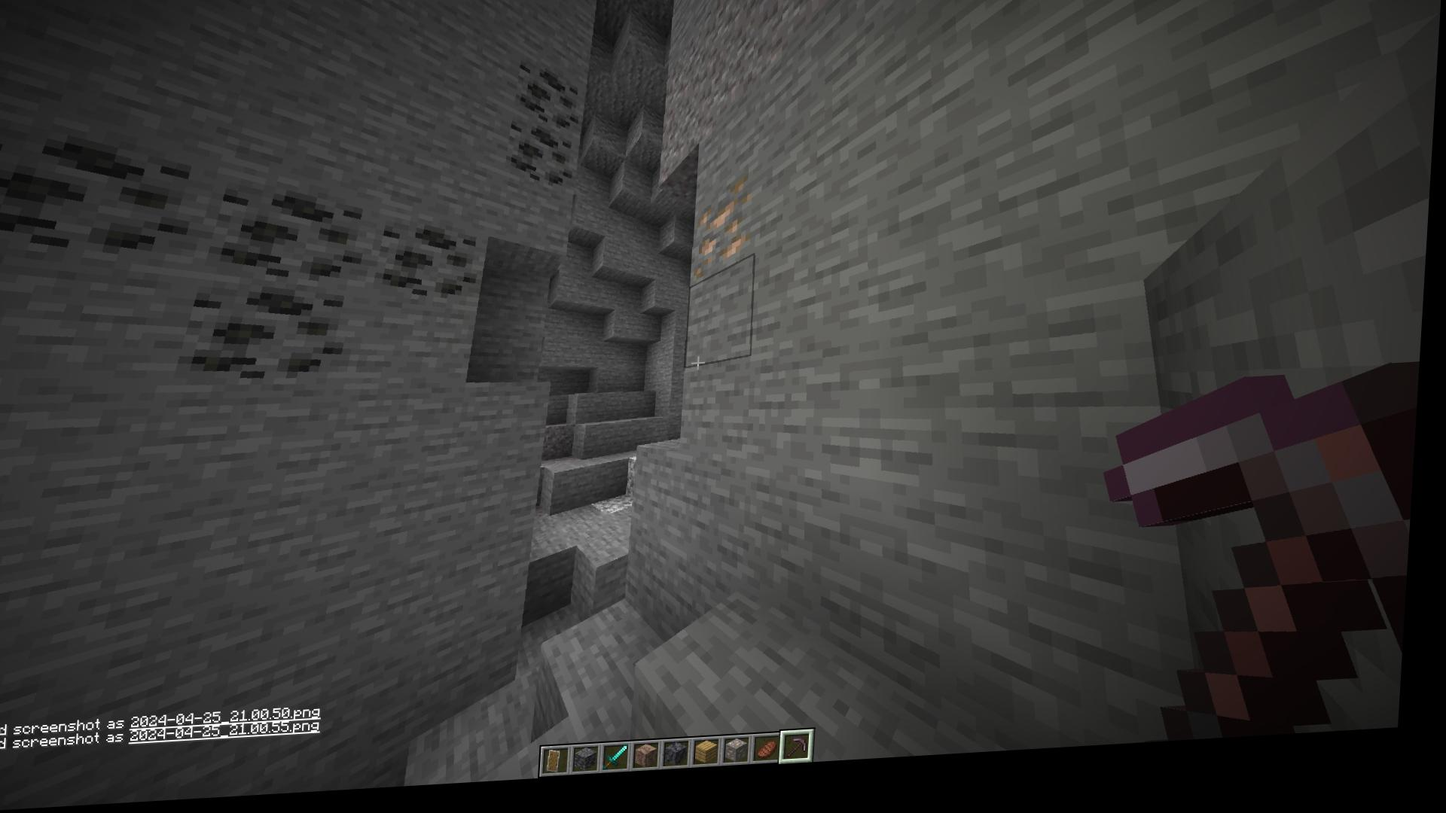iron ore: (693, 187, 760, 281)
